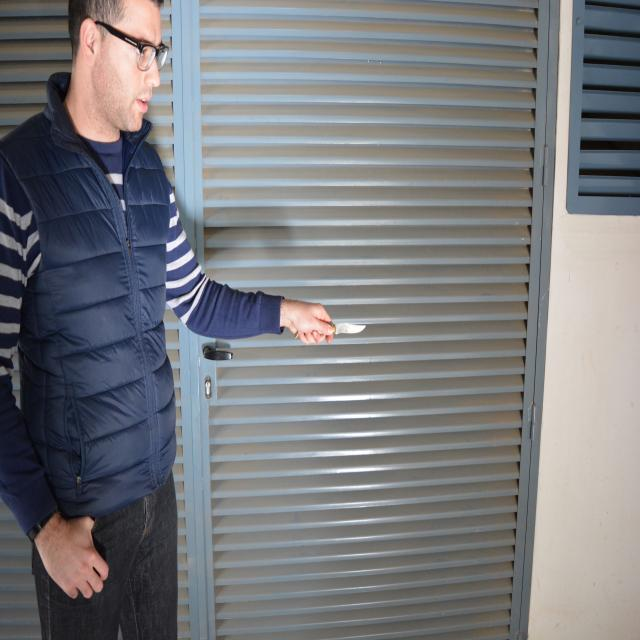knife: (333, 316, 369, 348)
